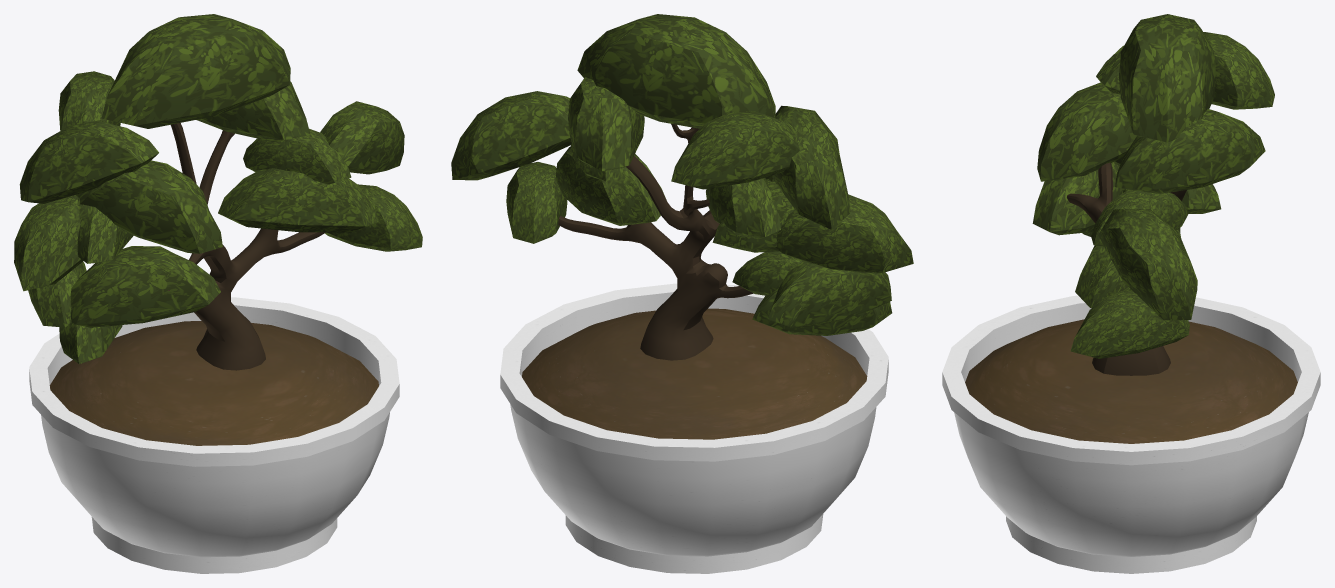
The model's file is modern bonsai.fbx.
3 views of the same model, side by side, from view 1: azimuth 30°, elevation 25°; view 2: azimuth 150°, elevation 25°; view 3: azimuth 270°, elevation 25° (orthographic). The views are drawn at different scales.
Parts seen in each view (by area): view 1: modern bonsai; view 2: modern bonsai; view 3: modern bonsai.
Part boxes in pixels (x1,y1,x2,y2): modern bonsai: (14,14,422,573); modern bonsai: (451,14,913,573); modern bonsai: (942,14,1320,573).
Size of the model in its own units: 52.67 by 60.71 by 42.03.
Materials: 4 (4 with a texture image).
